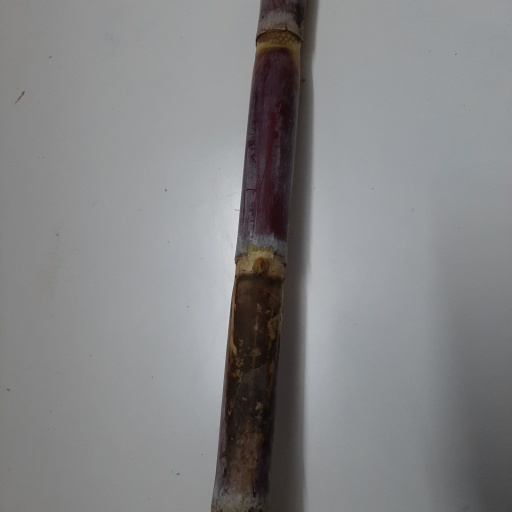Bud: (252, 256, 269, 277)
